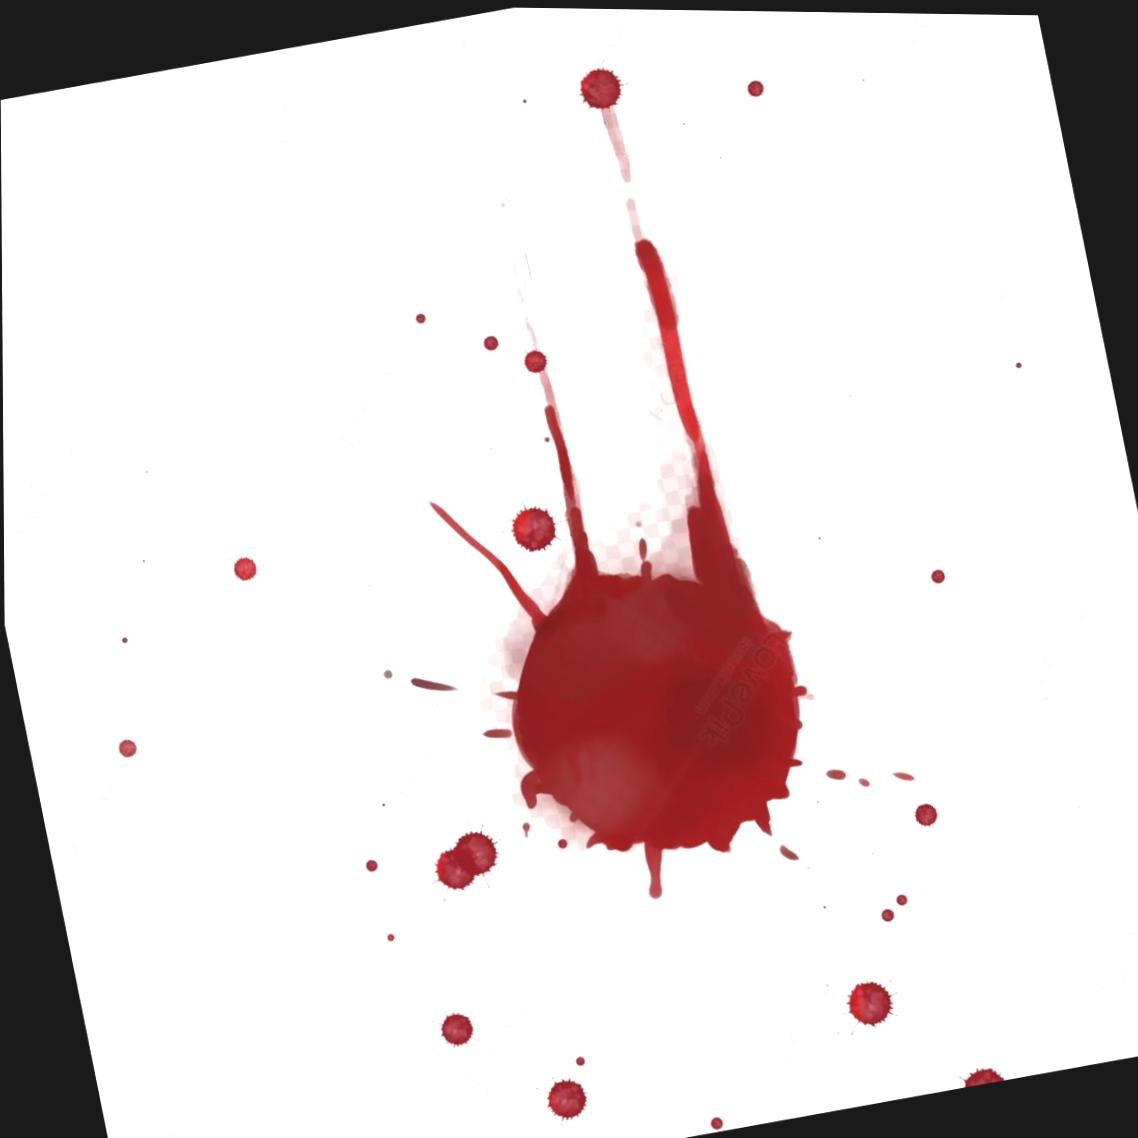Fire: (428, 237, 814, 898), (432, 830, 499, 890), (845, 978, 893, 1024), (511, 504, 556, 551), (579, 66, 624, 108), (545, 1079, 586, 1119), (439, 1012, 473, 1047), (961, 1065, 1004, 1085), (913, 800, 938, 824)
